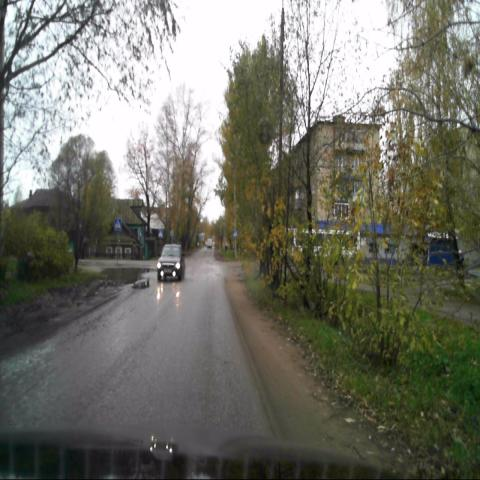5_19_1: (114, 217, 123, 231)
